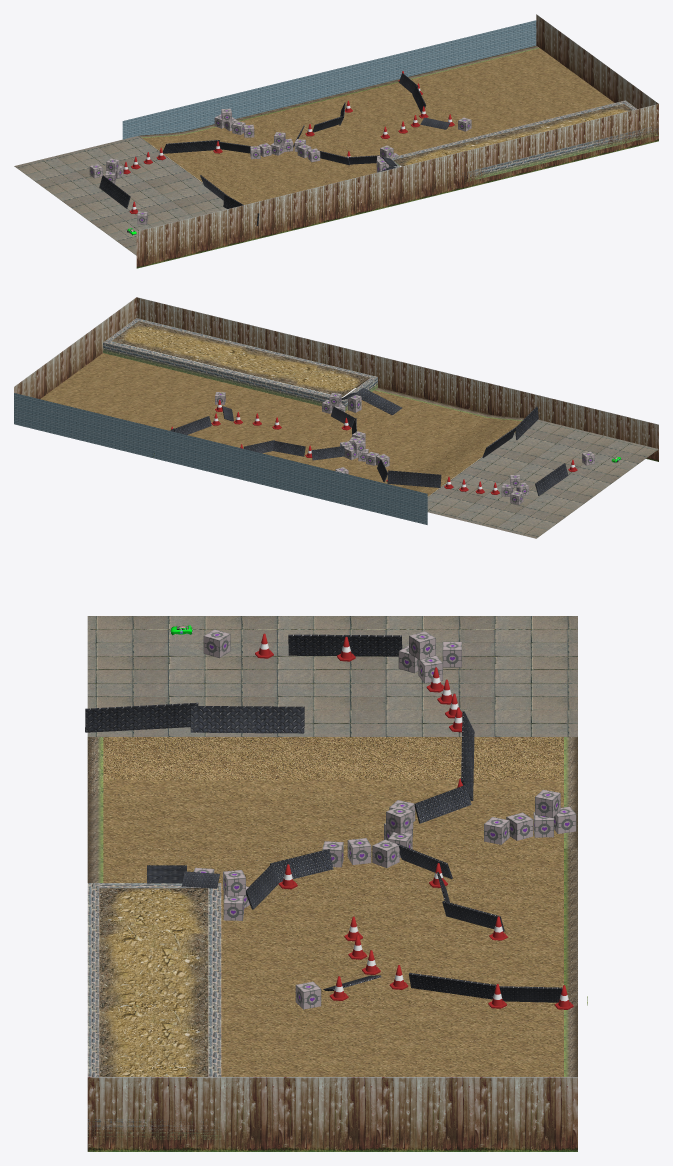
The model's file is car_racing_obj_2.fbx.
The picture shows the model from 3 angles, top to bottom: view 1: azimuth 30°, elevation 25°; view 2: azimuth 150°, elevation 25°; view 3: azimuth 270°, elevation 25°; orthographic projection. The views are drawn at different scales.
Visible parts, largest first — view 1: Kitchen:Grass, Kitchen:Fence, Kitchen:Paving, Brick, Kitchen:Brick, Brick1, Kitchen:Stone, Kitchen:Dirt2, Board_ (×2), Kitchen:GrassEdge, Kitchen:GrassEdge2, Kitchen:Dirt3 (+1 smaller); view 2: Kitchen:Grass, Kitchen:Fence, Kitchen:Paving, Brick1, Kitchen:Brick, Brick, Kitchen:Stone, Kitchen:Dirt2, Board_ (×5), Kitchen:Dirt1, Kitchen:Dirt3, Kitchen:GrassEdge (+1 smaller); view 3: Kitchen:Grass, Kitchen:Paving, Kitchen:Fence, Board_ (×9), Kitchen:Dirt2, Kitchen:Stone, Kitchen:Dirt3, Kitchen:GrassEdge, Kitchen:GrassEdge2, Kitchen:Dirt1.
Boxes of the visible parts, <box> form: Kitchen:Grass: <box>142,48,614,204</box>; Kitchen:Fence: <box>136,14,658,268</box>; Kitchen:Paving: <box>14,136,226,255</box>; Brick: <box>260,54,398,112</box>; Kitchen:Brick: <box>398,20,536,78</box>; Brick1: <box>122,87,260,140</box>; Kitchen:Stone: <box>389,100,658,182</box>; Kitchen:Dirt2: <box>442,116,583,154</box>; Board_ (×2): <box>99,140,219,208</box>; Kitchen:GrassEdge: <box>139,45,539,137</box>; Kitchen:GrassEdge2: <box>238,79,398,120</box>; Kitchen:Dirt3: <box>393,148,450,166</box>; Kitchen:Grass: <box>40,353,521,496</box>; Kitchen:Fence: <box>14,297,658,461</box>; Kitchen:Paving: <box>427,419,658,538</box>; Brick1: <box>289,460,427,524</box>; Kitchen:Brick: <box>14,393,151,457</box>; Brick: <box>152,426,289,491</box>; Kitchen:Stone: <box>103,318,377,410</box>; Kitchen:Dirt2: <box>161,333,320,385</box>; Board_ (×5): <box>173,416,568,495</box>; Kitchen:Dirt1: <box>112,321,187,352</box>; Kitchen:Dirt3: <box>294,365,368,397</box>; Kitchen:GrassEdge: <box>374,387,524,420</box>; Kitchen:Grass: <box>103,737,563,1076</box>; Kitchen:Paving: <box>87,616,577,736</box>; Kitchen:Fence: <box>87,1077,577,1151</box>; Board_ (×9): <box>85,634,562,1002</box>; Kitchen:Dirt2: <box>99,933,208,1065</box>; Kitchen:Stone: <box>87,883,221,1139</box>; Kitchen:Dirt3: <box>99,888,208,935</box>; Kitchen:GrassEdge: <box>87,737,577,1076</box>; Kitchen:GrassEdge2: <box>564,848,577,1005</box>; Kitchen:Dirt1: <box>99,1064,208,1076</box>.
Size of what is drawn, in the model's own units: 219 by 15 by 91.39.
61 materials, 53 textured.
